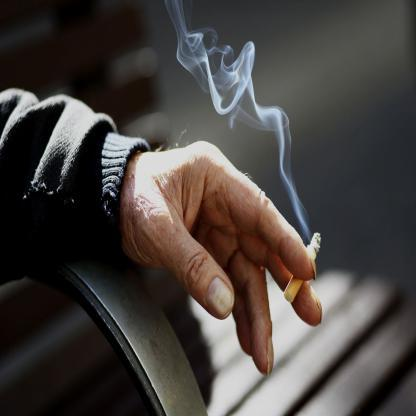cigarette: (284, 230, 323, 305)
smoke: (174, 25, 258, 120), (267, 110, 306, 226)
